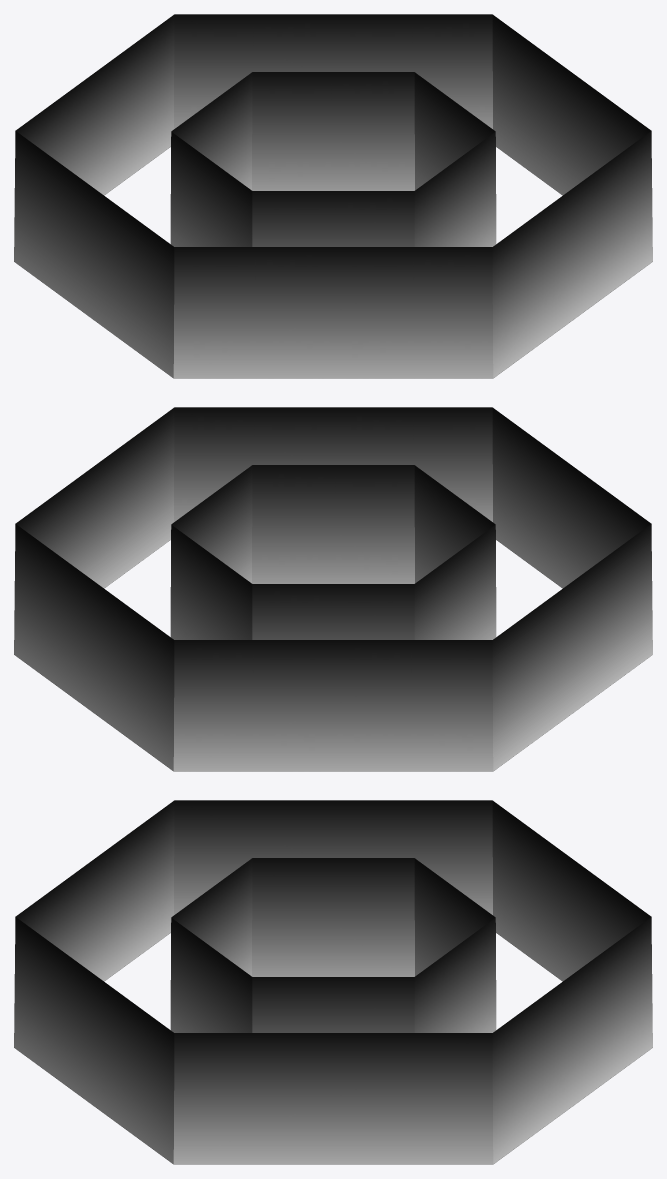
Rendered from TexturaPotenciador.fbx.
3 views of the same model, one above another, from view 1: azimuth 30°, elevation 25°; view 2: azimuth 150°, elevation 25°; view 3: azimuth 270°, elevation 25° (orthographic).
Visible parts, largest first — view 1: Red_Texture; view 2: Red_Texture; view 3: Red_Texture.
Boxes of the visible parts, x1=… form: Red_Texture: x1=14, y1=14, x2=652, y2=378; Red_Texture: x1=14, y1=407, x2=652, y2=771; Red_Texture: x1=14, y1=800, x2=652, y2=1164.
Bounding box in the file's own units: 177 × 46.13 × 204.
